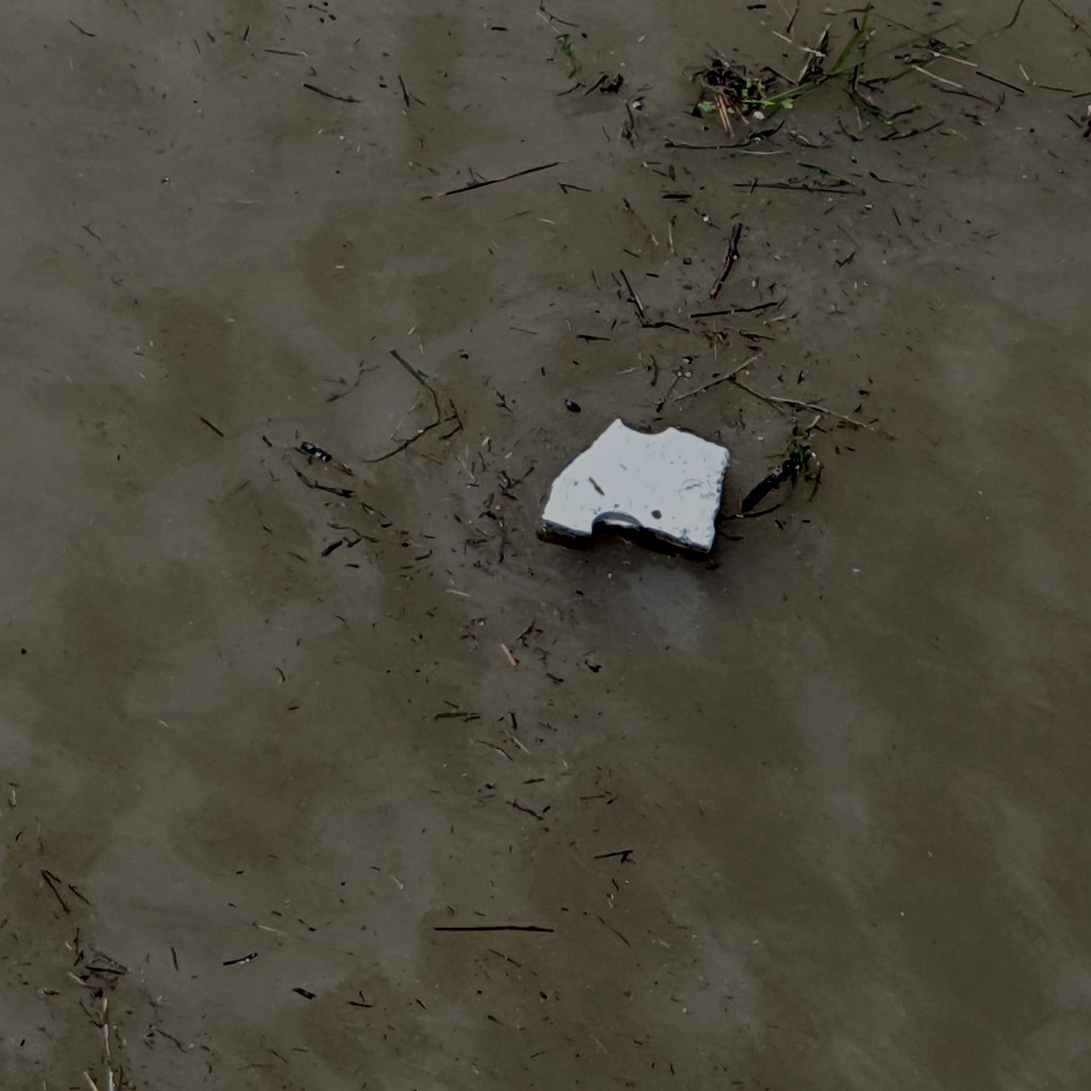sampah_terapung: (543, 419, 731, 555)
